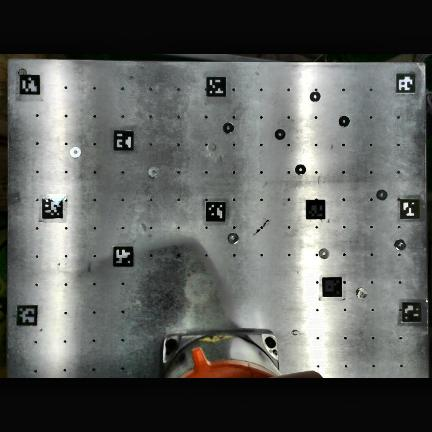marker: (17, 304, 38, 325), (400, 198, 420, 219), (42, 198, 62, 218), (113, 246, 133, 266), (114, 130, 134, 150), (206, 75, 226, 95), (403, 300, 422, 321), (206, 201, 225, 222), (20, 75, 40, 94), (396, 73, 415, 93), (306, 200, 325, 219), (323, 278, 342, 296)
washer: (310, 90, 321, 101), (275, 129, 285, 139), (395, 240, 405, 250), (319, 249, 329, 259), (357, 288, 367, 298), (339, 117, 349, 126), (377, 190, 387, 199), (229, 233, 238, 243), (71, 148, 80, 157), (224, 123, 233, 132)
